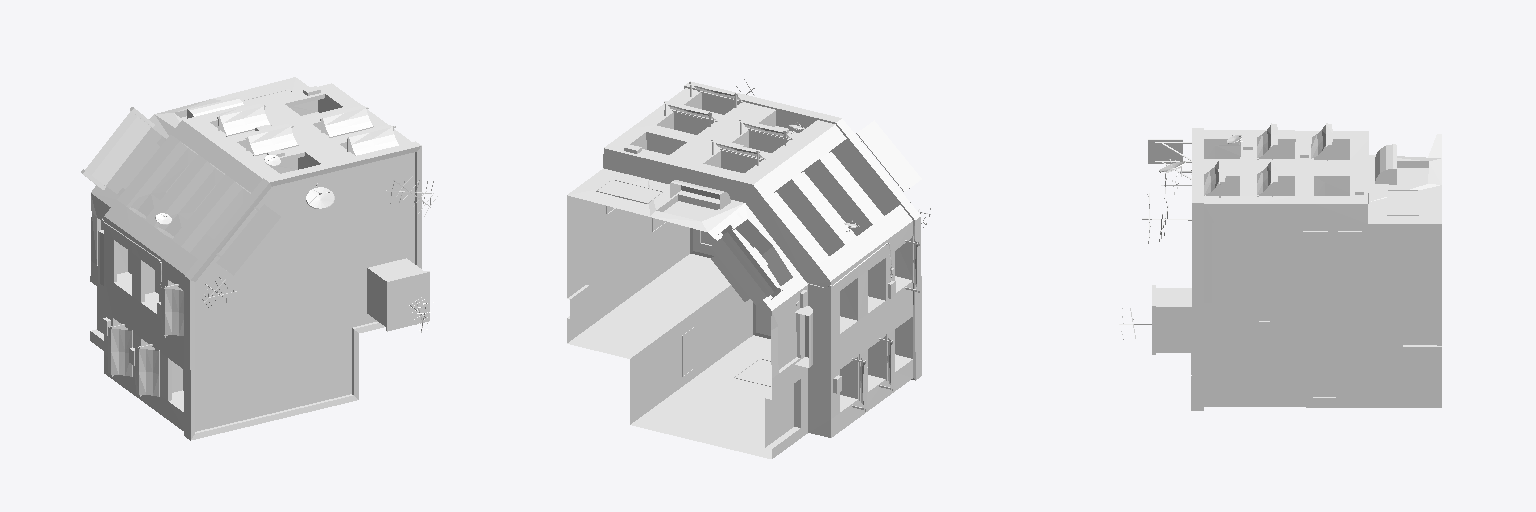
File: house3.obj
3 renders of one model, left to right at view 1: azimuth 30°, elevation 25°; view 2: azimuth 150°, elevation 25°; view 3: azimuth 270°, elevation 25°, orthographic.
Visible parts, largest first — view 1: House3_001; view 2: House3_001; view 3: House3_001.
Part boxes in pixels (x1,y1,x2,y2): House3_001: (81, 77, 437, 440); House3_001: (567, 79, 930, 458); House3_001: (1119, 123, 1441, 410).
Size of the model in its own units: 15.57 by 15.38 by 17.88.